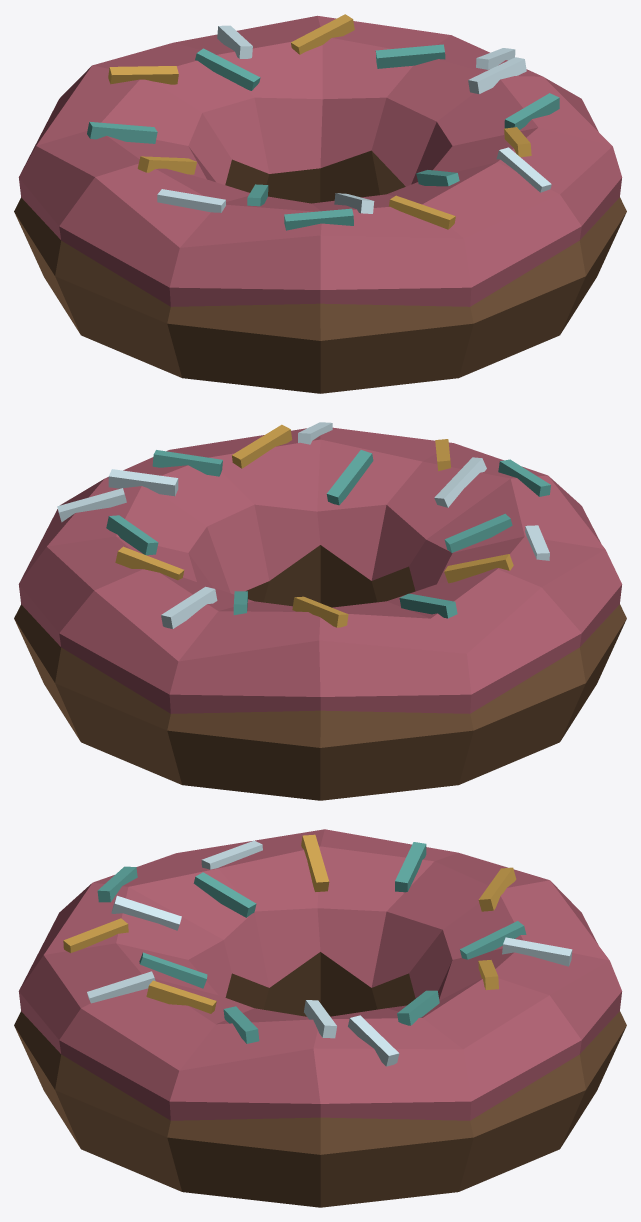
Rendered from SM_Prop_Donut_01.fbx.
3 renders of one model, top to bottom at view 1: azimuth 30°, elevation 25°; view 2: azimuth 150°, elevation 25°; view 3: azimuth 270°, elevation 25°, orthographic.
Parts seen in each view (by area): view 1: SM_Prop_Donut_01; view 2: SM_Prop_Donut_01; view 3: SM_Prop_Donut_01.
Part boxes in pixels (bbox=[...]): SM_Prop_Donut_01: bbox=[14, 14, 626, 393]; SM_Prop_Donut_01: bbox=[14, 422, 626, 800]; SM_Prop_Donut_01: bbox=[14, 829, 626, 1207].
Size of the model in its own units: 19.09 by 6.77 by 19.09.
